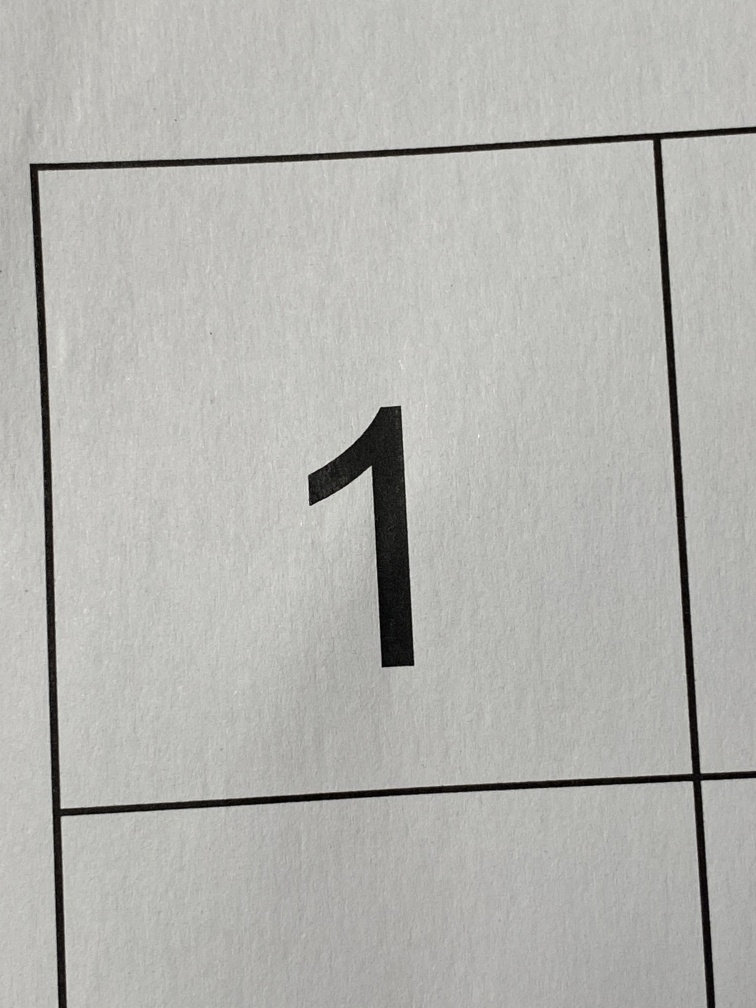one: (279, 363, 483, 742)
